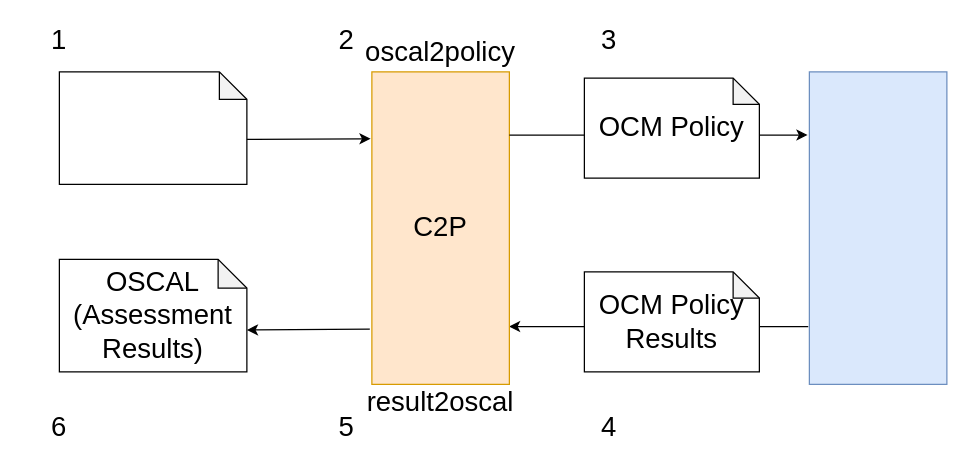
Image size: 969x468. Some labels were removed from this diagram. Each missing label, with the centre of its shape:
OCM: the point at 877,227
OSCAL (Component Definition): the point at 152,127
